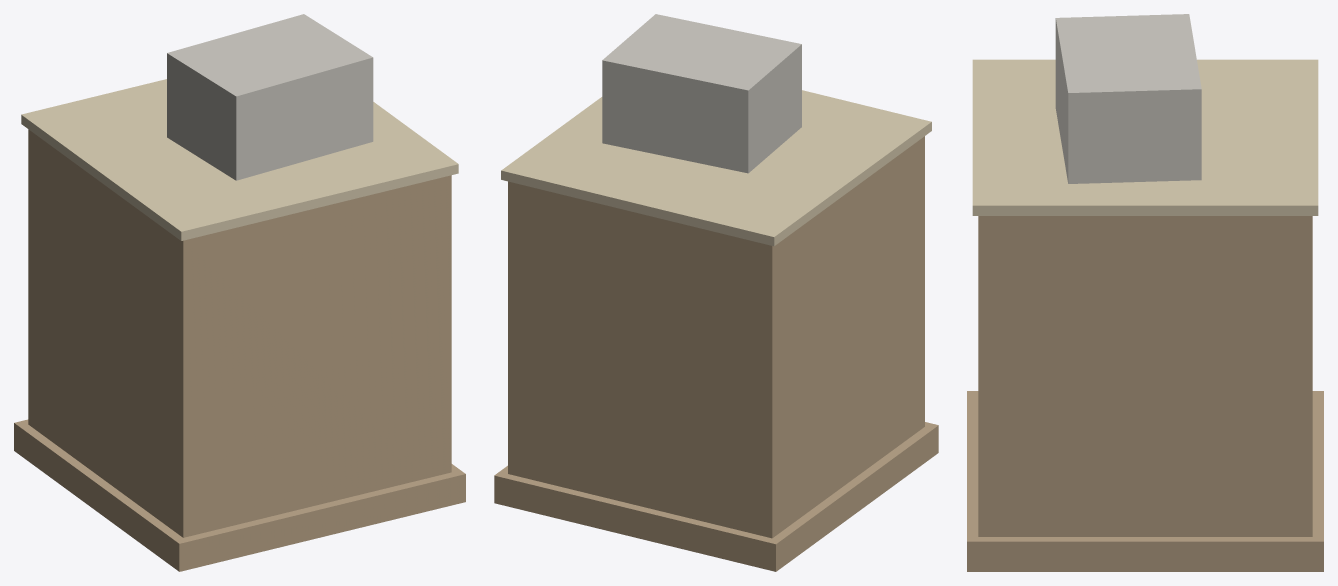
File: prop-banker-block-blank.fbx
The picture shows the model from 3 angles, left to right: view 1: azimuth 30°, elevation 25°; view 2: azimuth 150°, elevation 25°; view 3: azimuth 270°, elevation 25°; orthographic projection. The views are drawn at different scales.
Parts seen in each view (by area): view 1: prop-banker-block-blank; view 2: prop-banker-block-blank; view 3: prop-banker-block-blank.
Boxes of the visible parts, x1,y1,x2,y2 form: prop-banker-block-blank: (14,14,465,571); prop-banker-block-blank: (494,14,938,571); prop-banker-block-blank: (967,14,1323,571).
Bounding box in the file's own units: 64 × 90 × 64.
